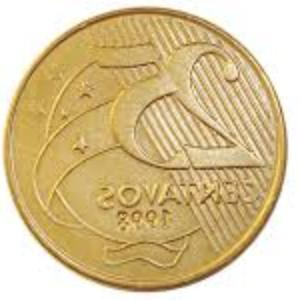25 cent: (2, 4, 288, 292)
